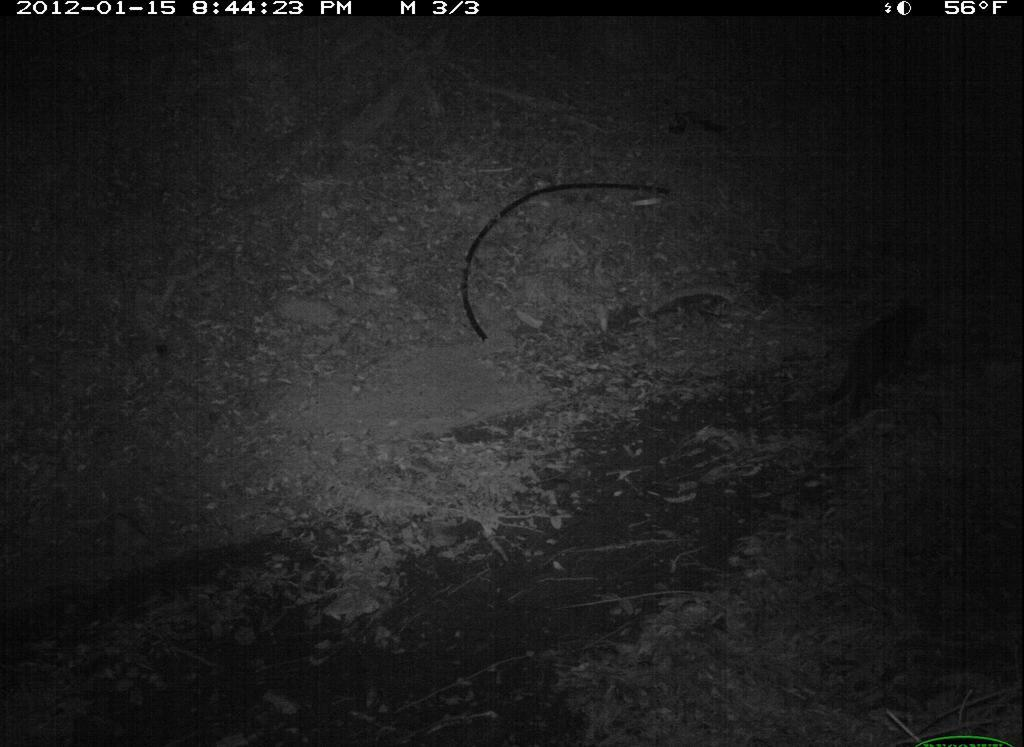cat: (816, 287, 939, 428)
